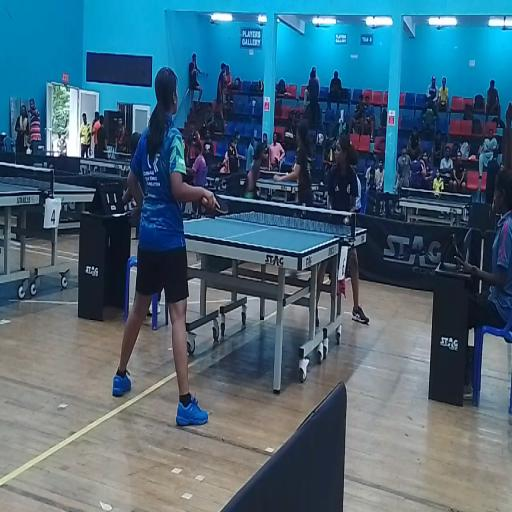ball: (343, 217, 349, 226)
